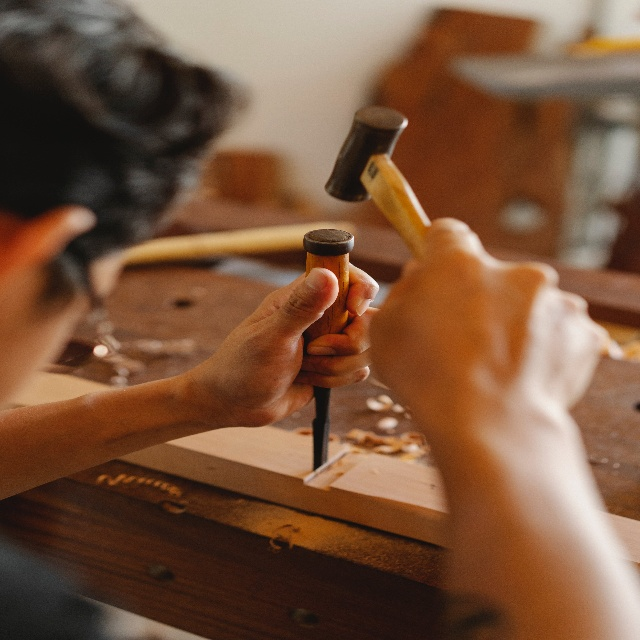Gafas: (55, 252, 114, 363)
Sin_guantes: (369, 216, 609, 450), (204, 262, 382, 427)
